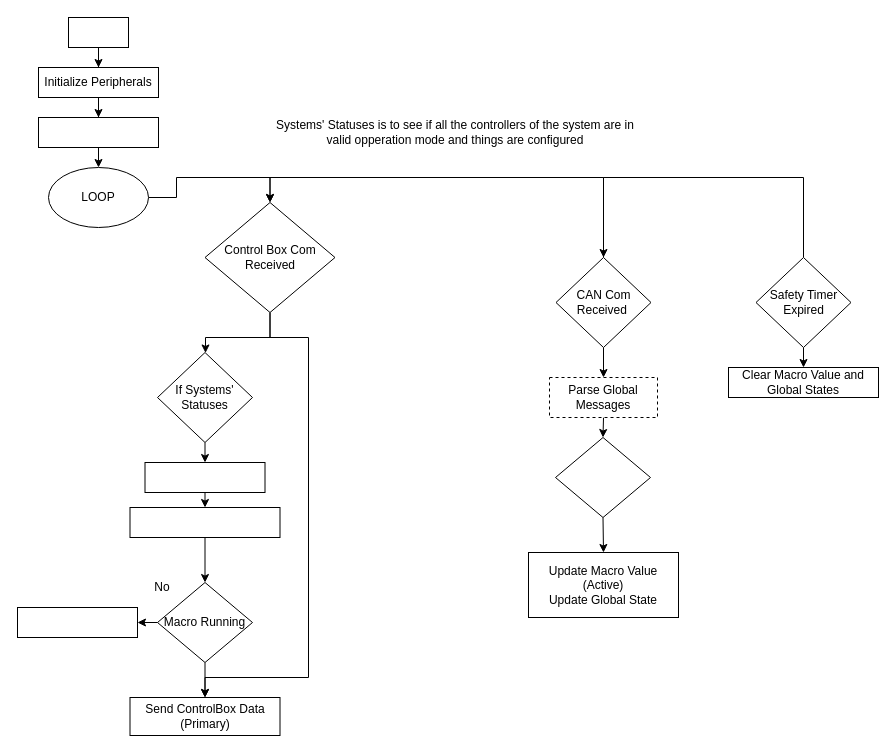
Image size: 896x753. Some labels were removed from this diagram. Here are the shapes that lost their labels. From the top down, the centre of each, then its label:
pixel 98 32: Start
pixel 98 132: Initialize Communications
pixel 204 477: Update Up time Counter
pixel 602 477: Change in macro state
pixel 204 522: Update Macro Value (pending)
pixel 77 622: Update/Send Manual Control
